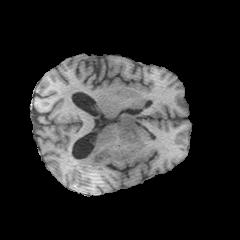glioma: (74, 113, 143, 172)
